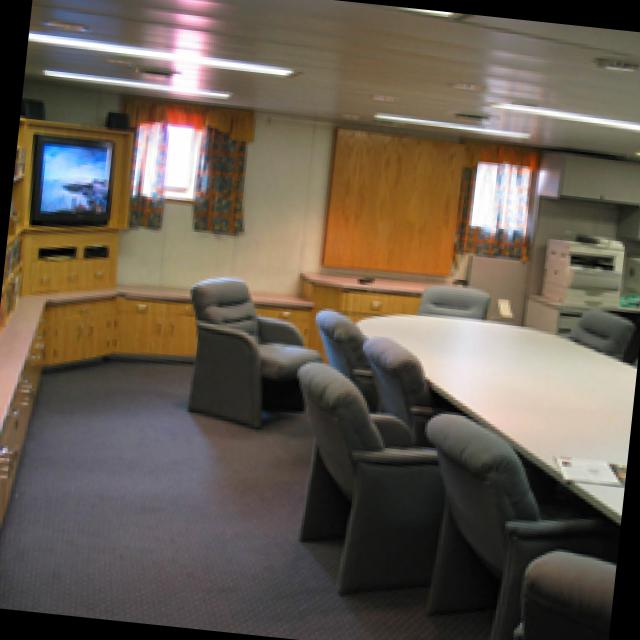2001: (128, 102, 204, 197), (463, 158, 528, 235)
armchair: (362, 333, 457, 437), (313, 307, 381, 413), (568, 303, 630, 357), (414, 282, 484, 312)
armchair crop: (425, 411, 610, 640), (291, 357, 447, 602), (183, 273, 316, 421)
armchair top: (519, 550, 611, 640)
cabinet door: (0, 292, 191, 511), (316, 123, 459, 271), (16, 115, 126, 291), (534, 147, 640, 199), (298, 273, 409, 313), (257, 304, 320, 345), (615, 201, 640, 238)
ceiling beam: (24, 0, 640, 160)
ceiling lamps: (28, 28, 299, 78), (486, 90, 640, 132), (40, 64, 232, 97), (370, 102, 529, 140)
conference table: (355, 307, 618, 516)
counter bottom: (0, 276, 182, 415), (298, 270, 417, 289), (248, 287, 310, 304)
curtain crop: (122, 96, 254, 229), (451, 137, 534, 258)
desk calendar: (523, 291, 640, 339)
magazine holder: (555, 450, 622, 480)
printer: (537, 233, 619, 303)
speaker: (101, 106, 128, 134), (22, 95, 43, 115)
television cabinet: (26, 129, 111, 222)
tv camera: (36, 136, 107, 212)
